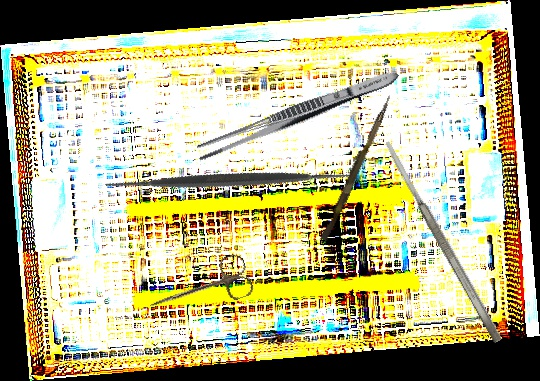Dressing Forceps: (192, 64, 403, 165)
Iris Scissors: (143, 251, 256, 329)
Pusher: (320, 92, 393, 243)
Spatula Surgical: (95, 44, 367, 317), (382, 138, 504, 345)
